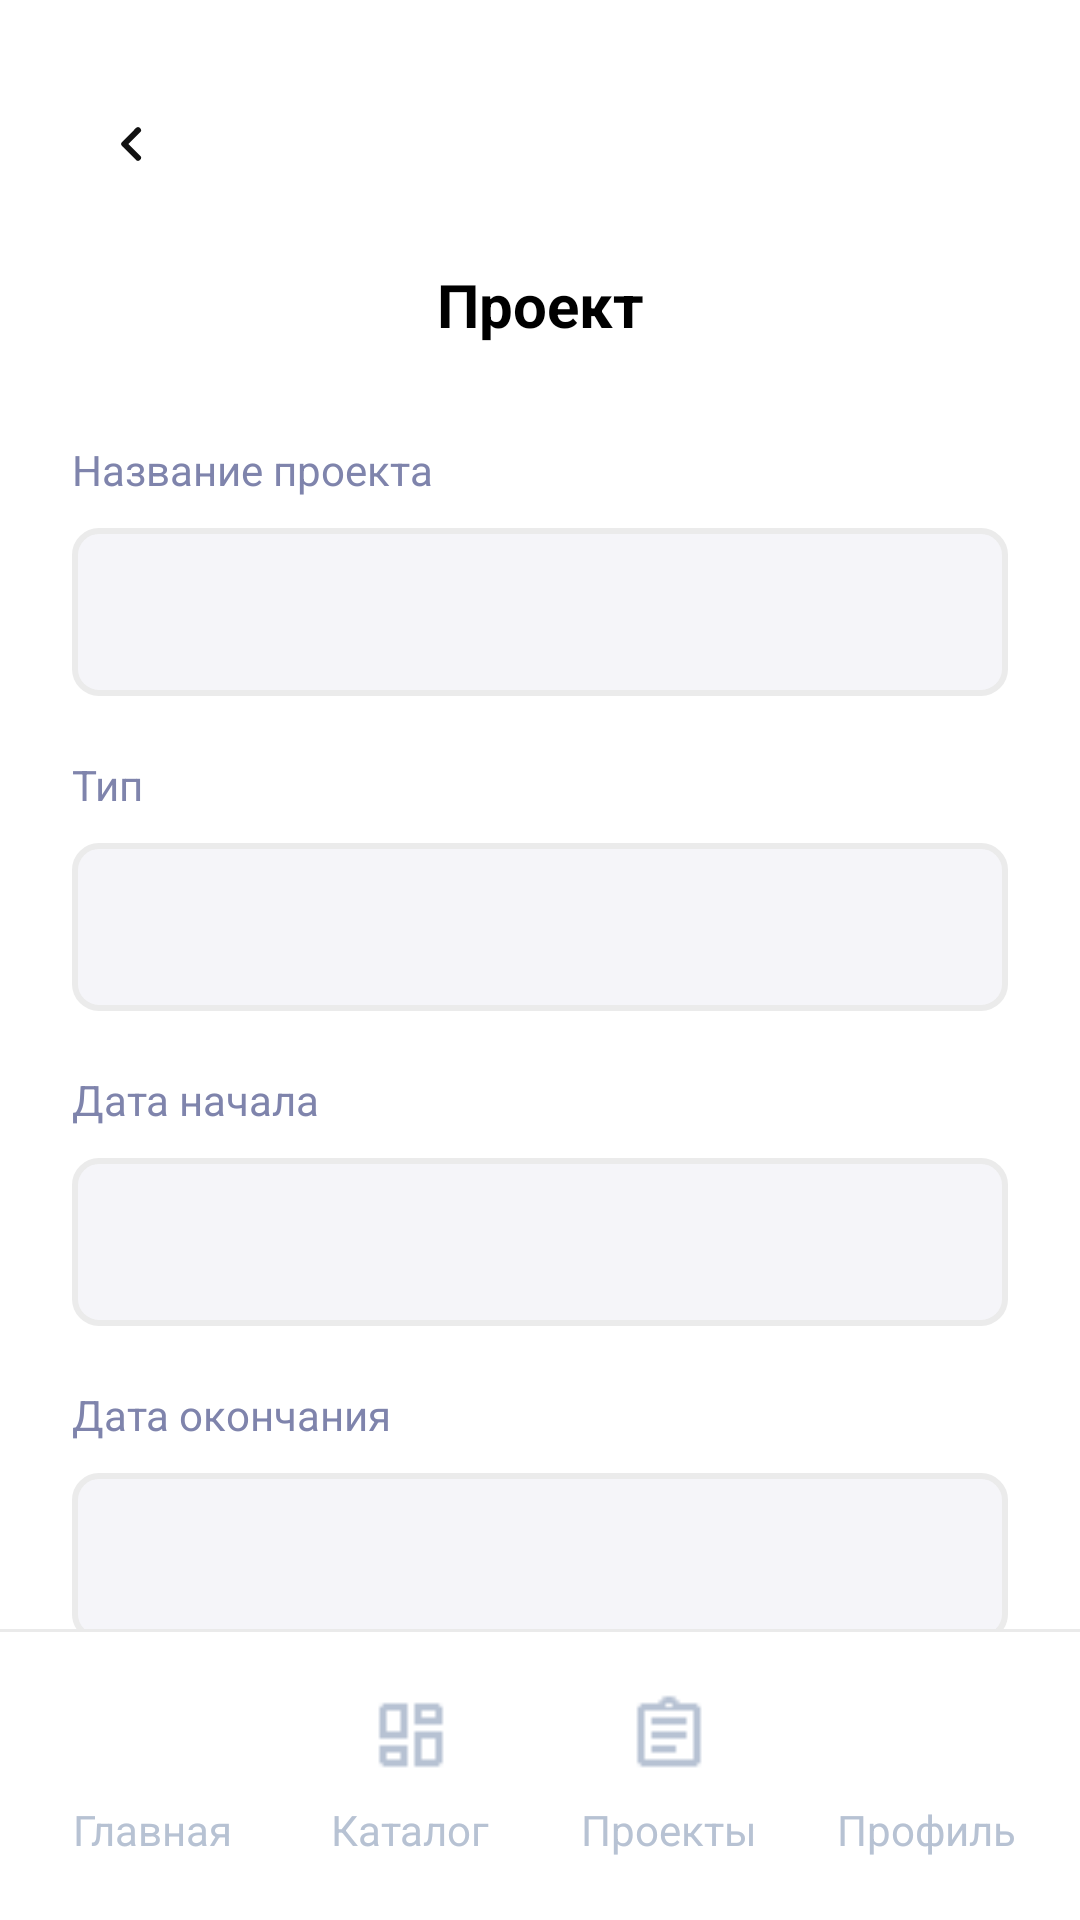

Icons on this 1080 x 1920 Android screen, each with the point to tap as point (x, y):
catalog page: point (411, 1735)
projects page: point (669, 1731)
Назад: point (131, 144)
